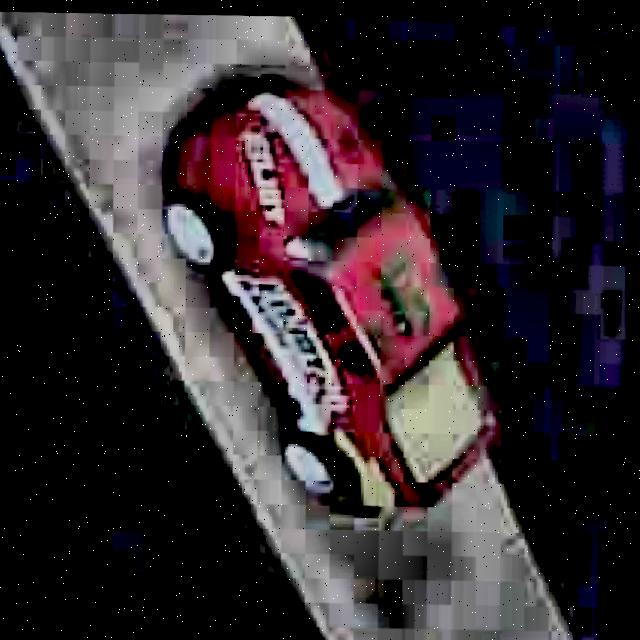car: (136, 58, 525, 533)
